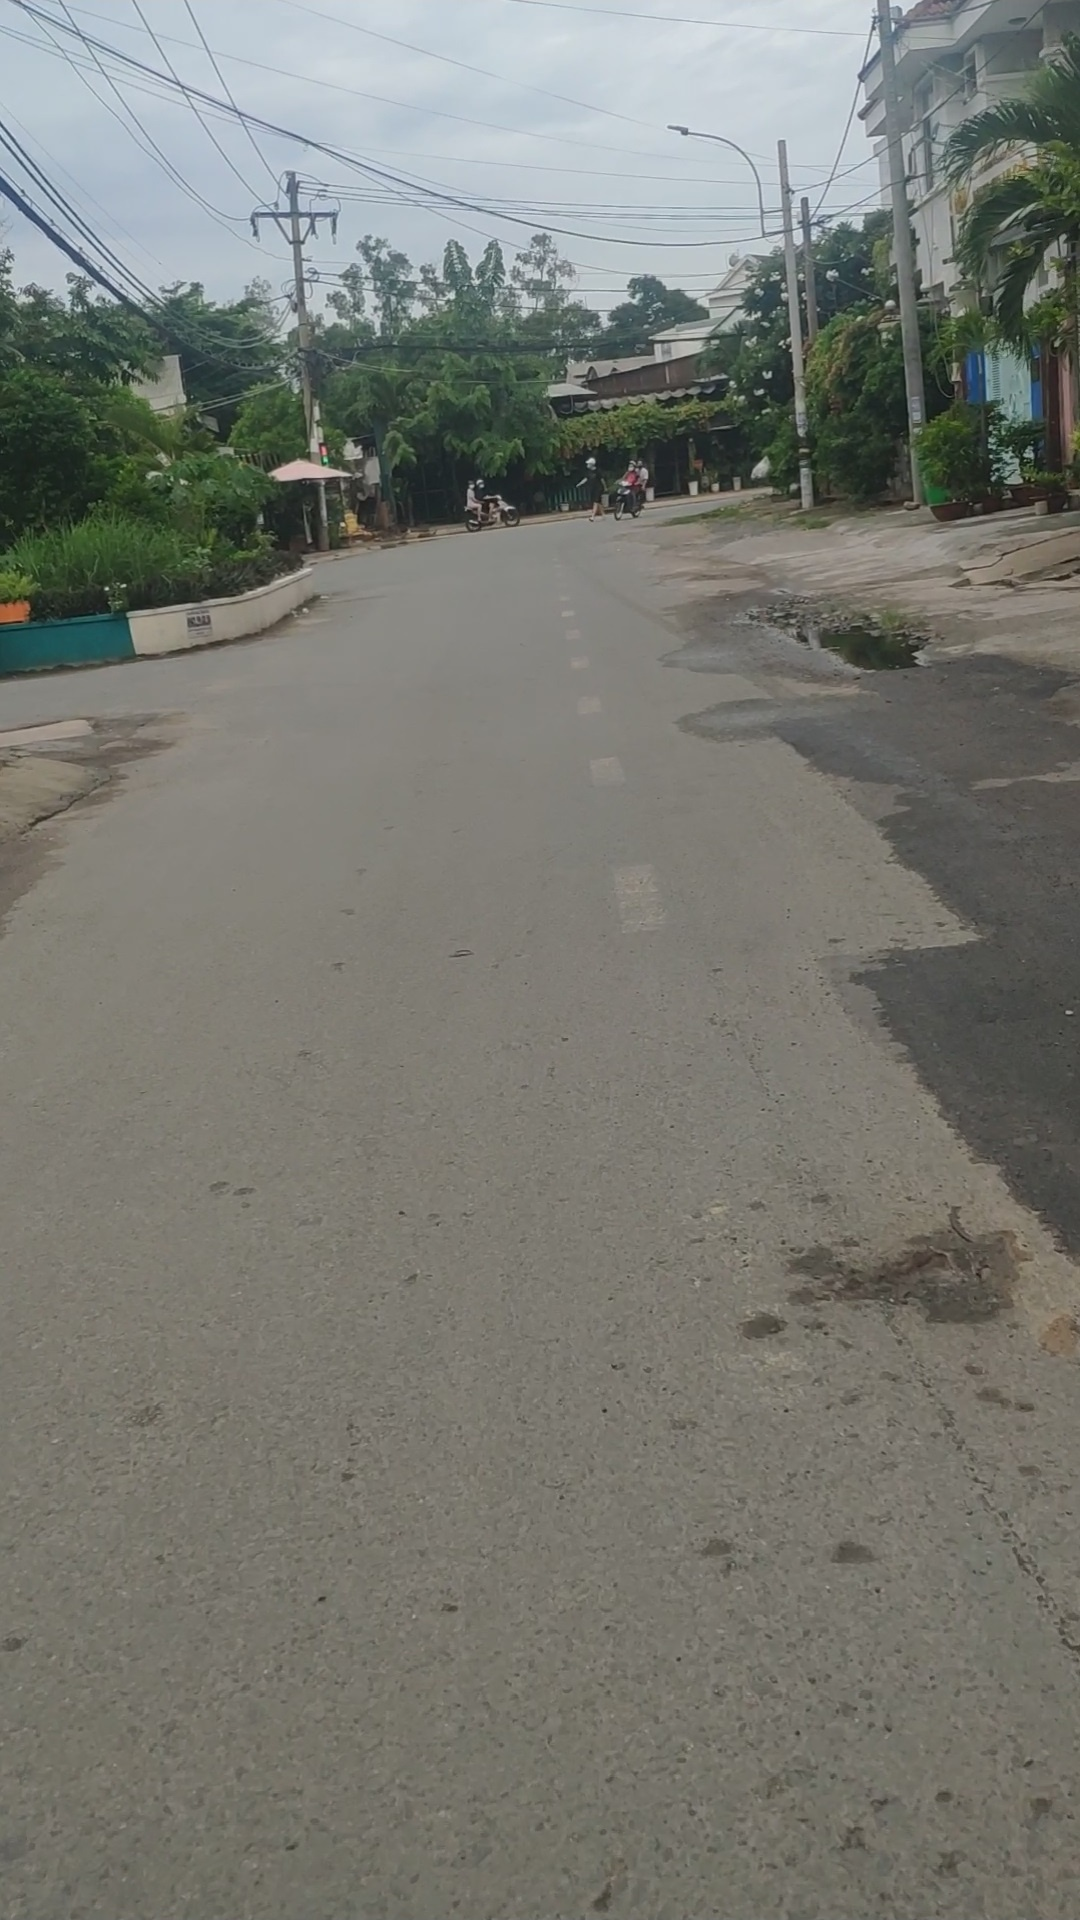hole: (733, 597, 945, 676)
